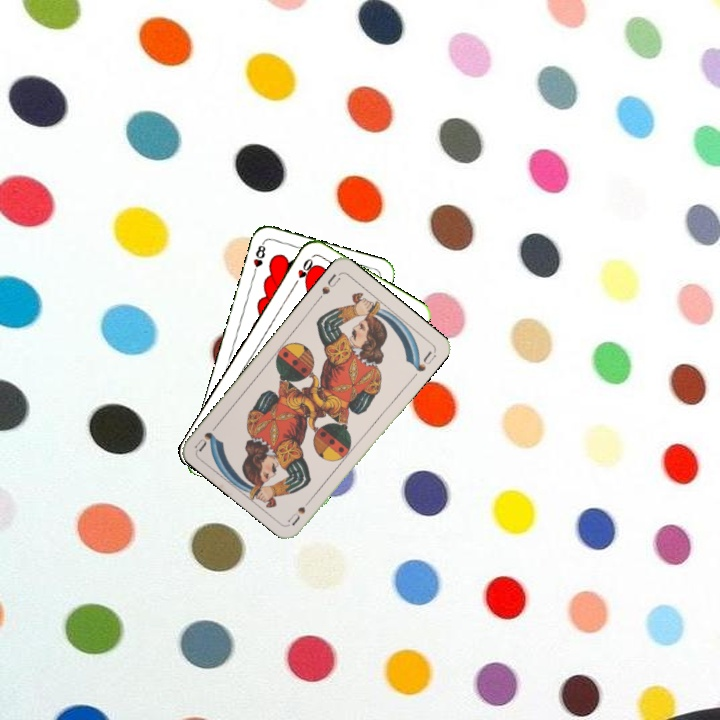H8: (249, 238, 268, 278)
HO: (289, 254, 316, 290)
SU: (284, 492, 316, 528), (313, 270, 343, 304)
